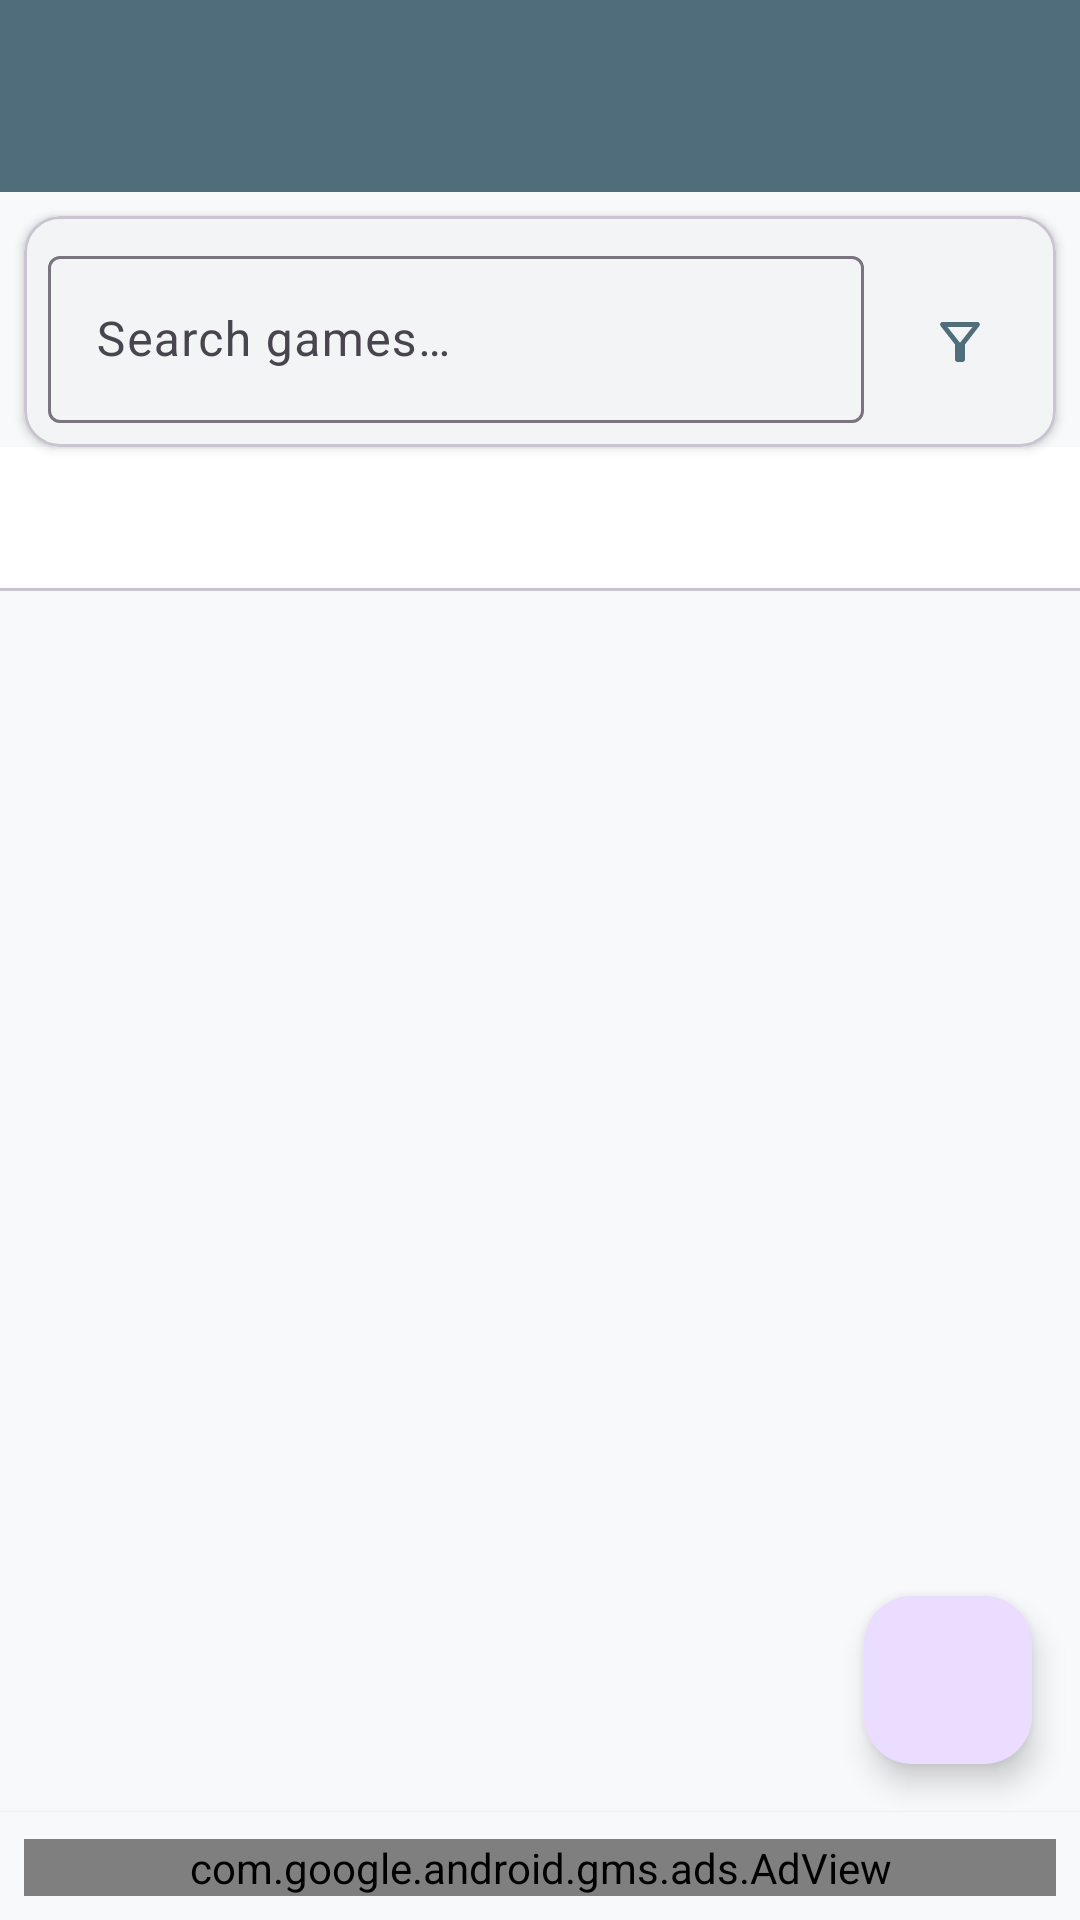

Where to tap for icons on this 1080w x 1920h app screen, as [x,y]:
Filter games: [960,342]
